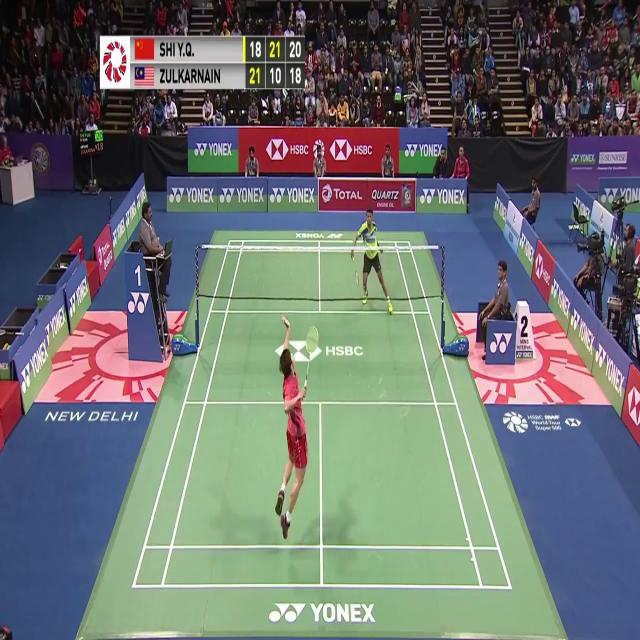Shuttlecock: (301, 83, 308, 95)
